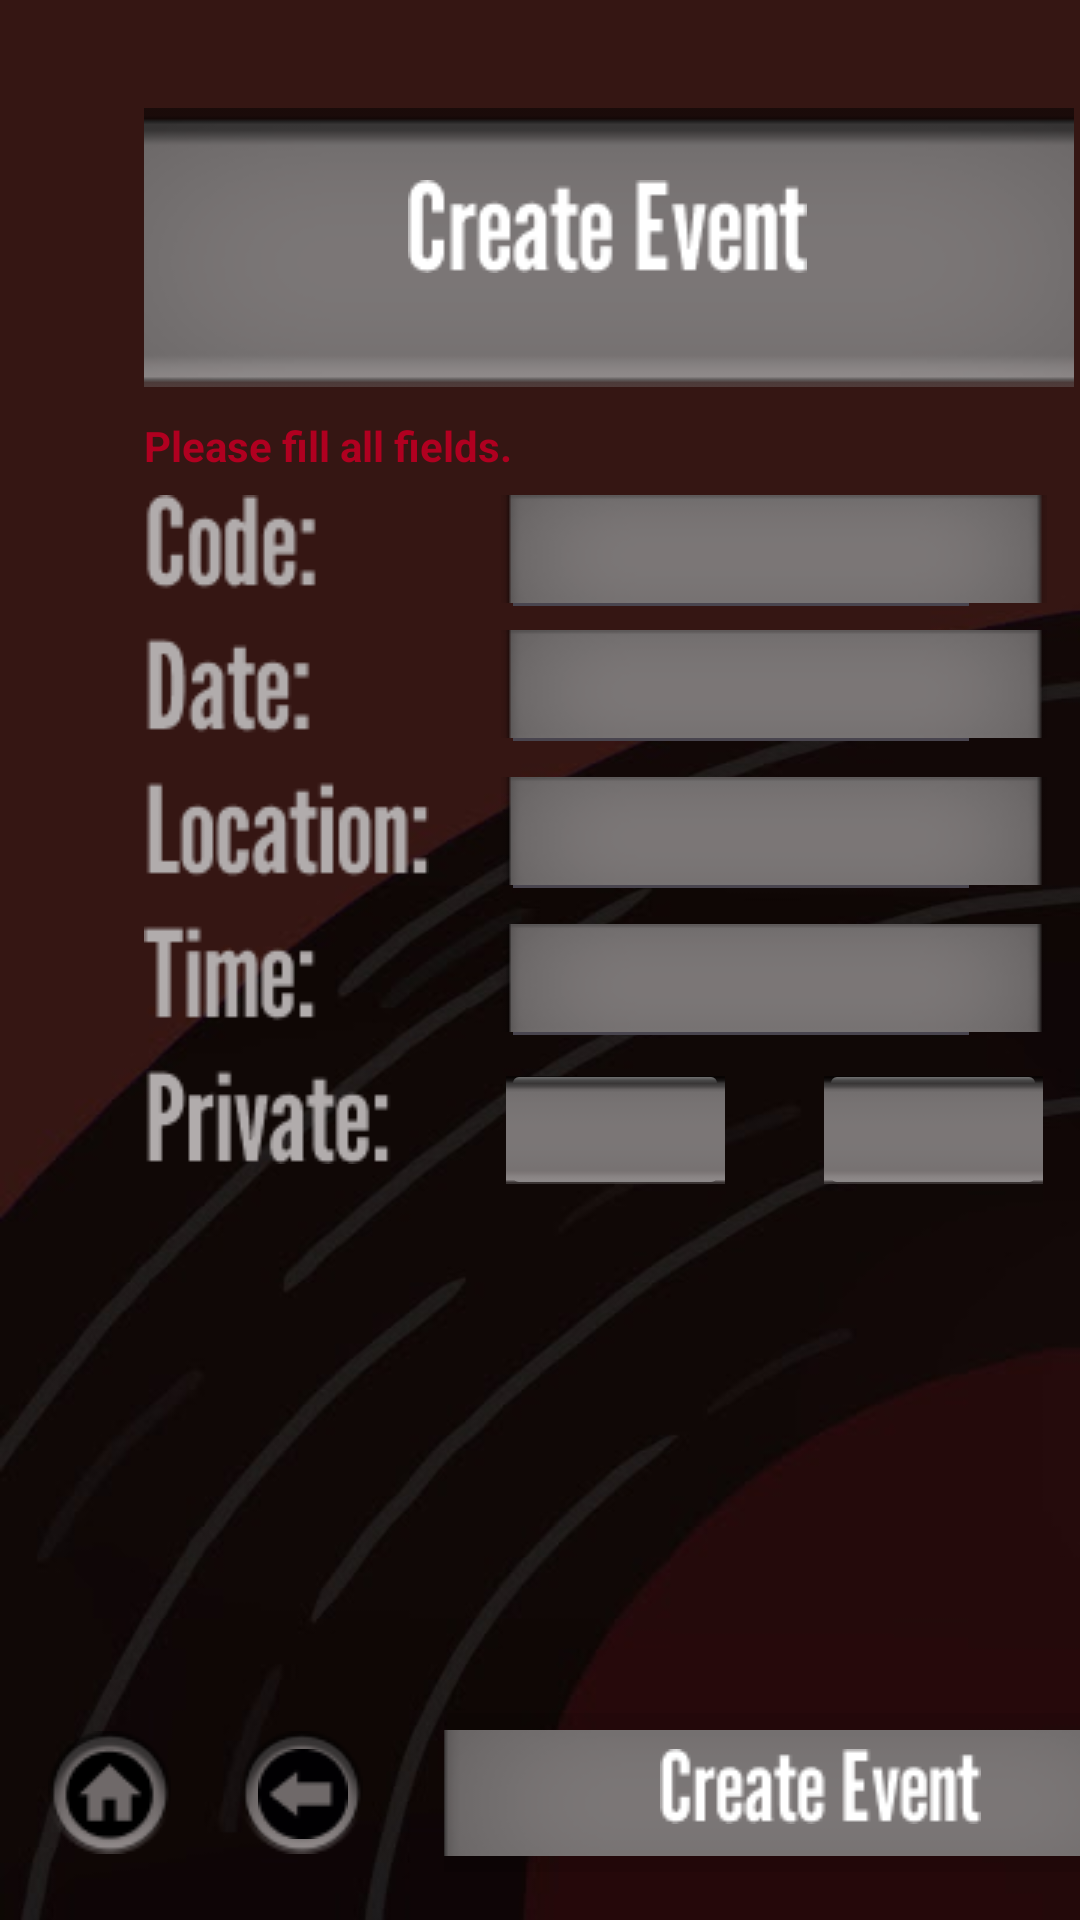

Point at icon controls on the screen. Image size 1080×1920, points as (x,y).
back arrow: (303,1794)
home circle: (109,1795)
